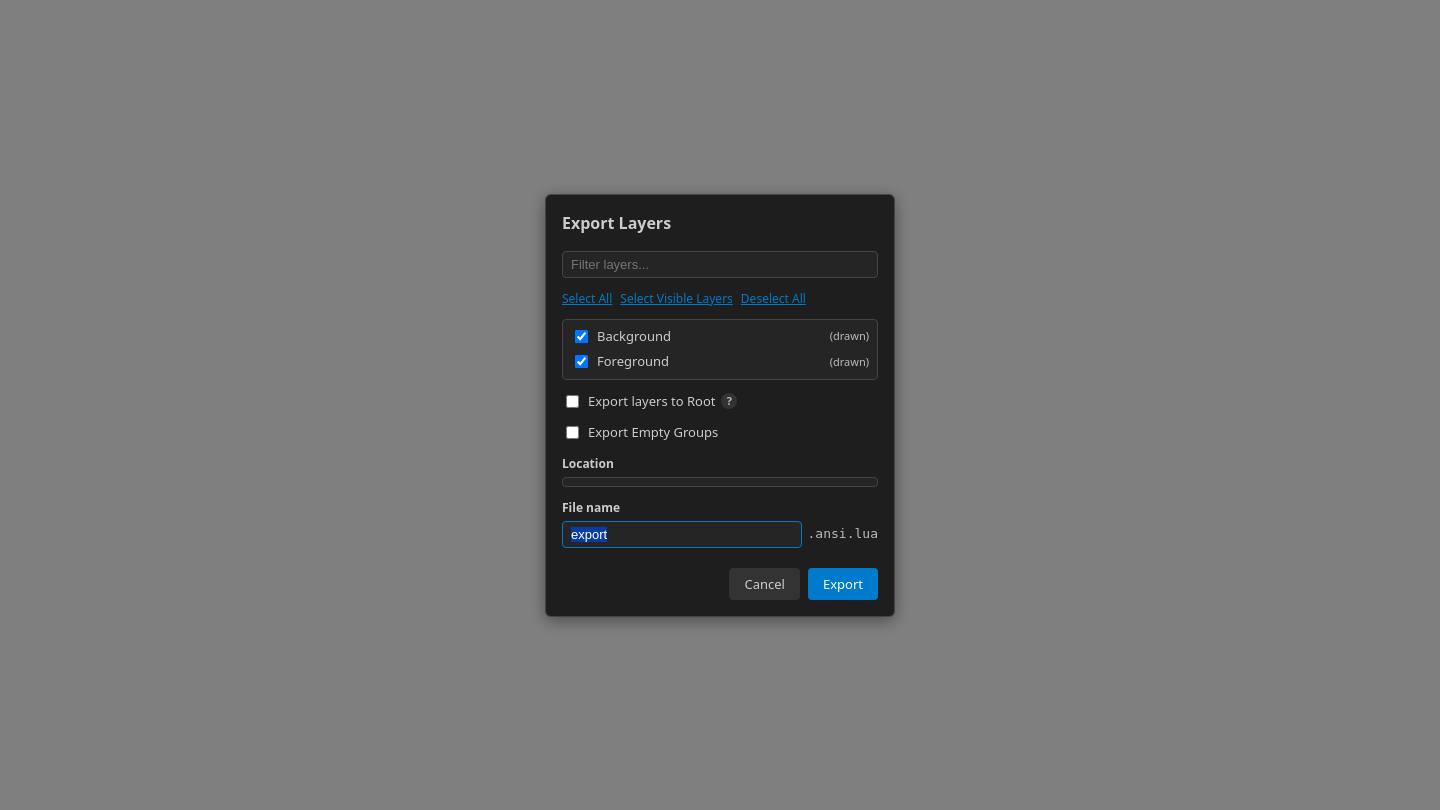
Scenario: ExportLayersDialog › Select All and Deselect All work
Click the button "Deselect All". click: (773, 298)
box: [741,290,806,306]
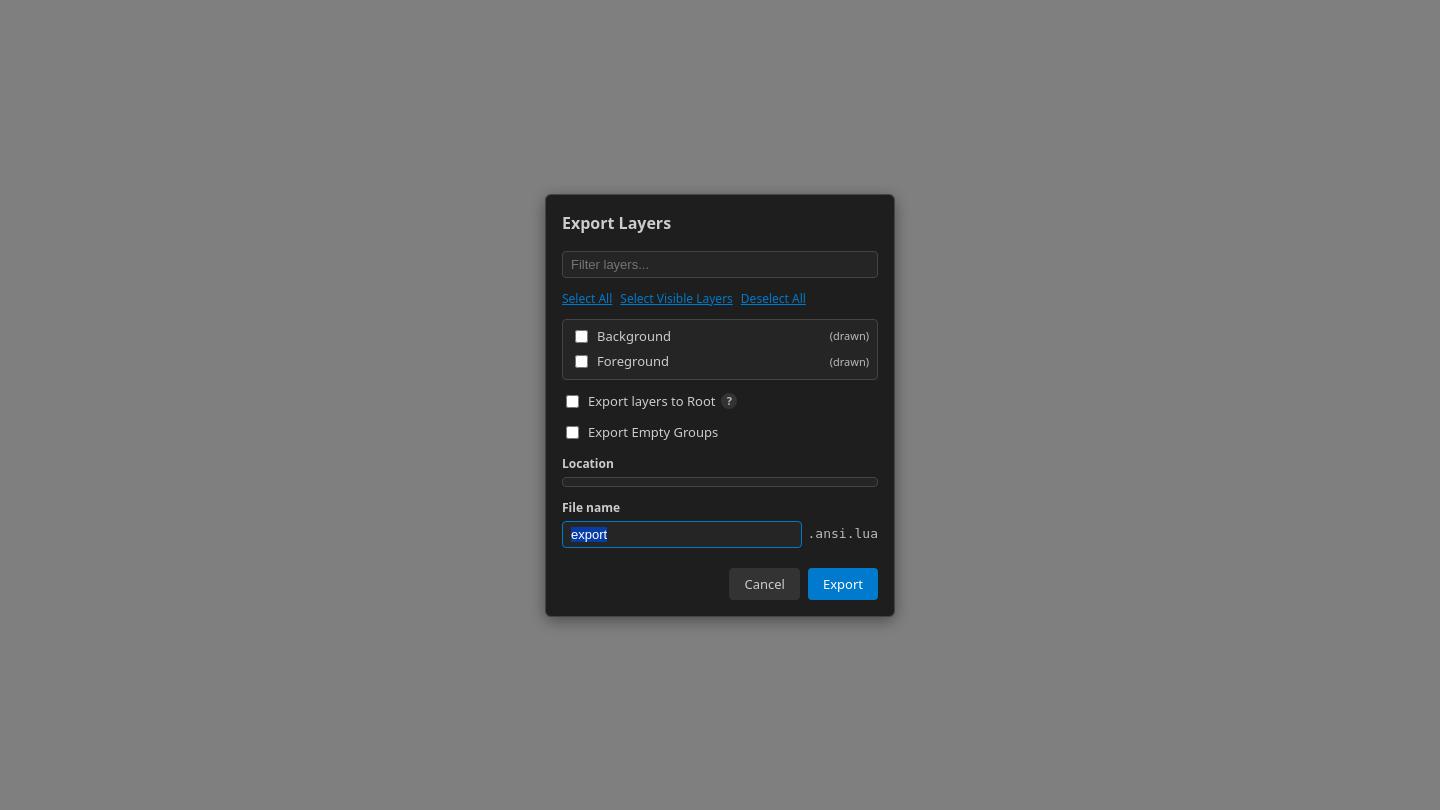
Now the checkbox with test id "export-check-bg-1" is not checked, box [575,330,588,343]
Now the checkbox with test id "export-check-fg-1" is not checked, box [575,355,588,368]
Click the button "Select All". click: (587, 298)
box: [562,290,612,306]
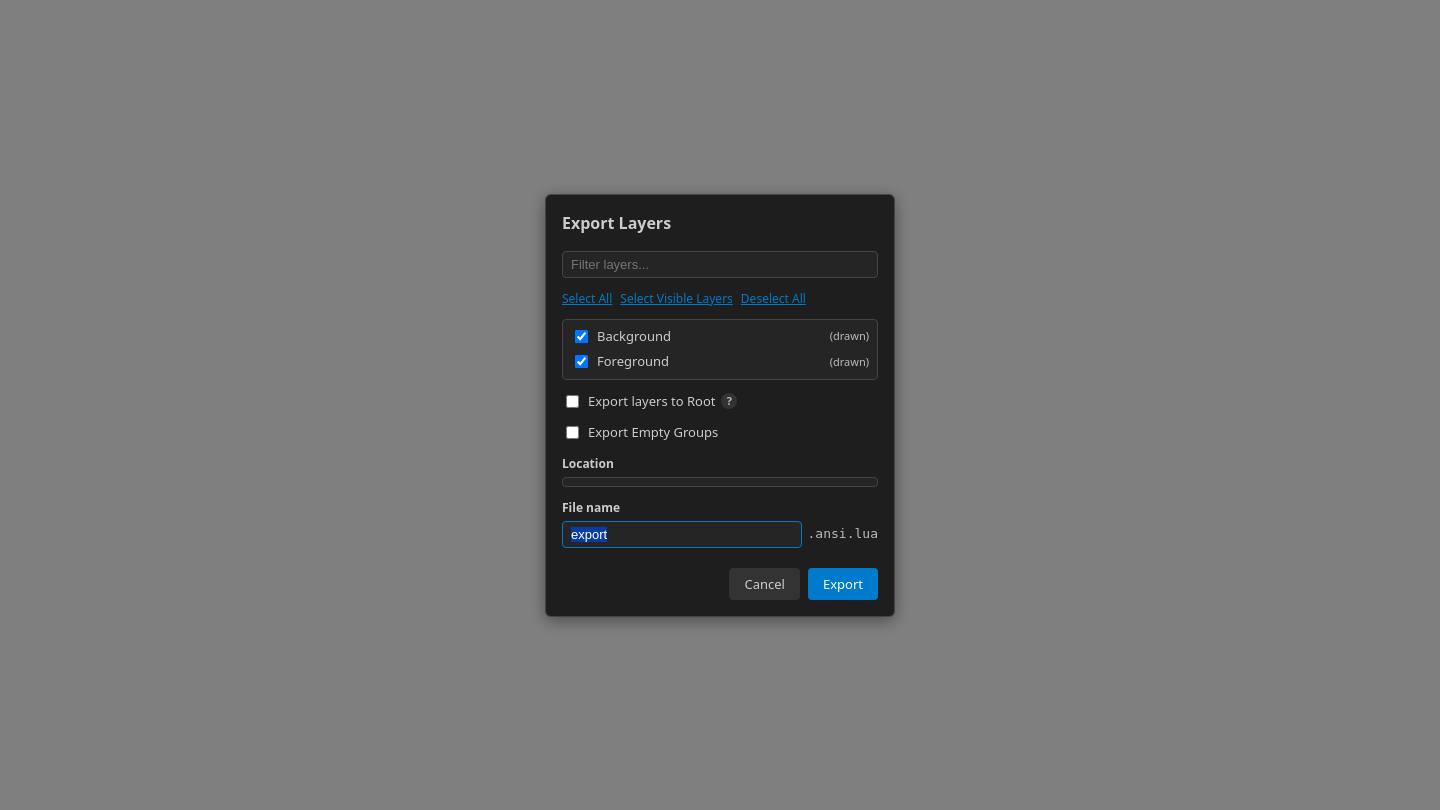
Now the checkbox with test id "export-check-bg-1" is checked, box [575,330,588,343]
Now the checkbox with test id "export-check-fg-1" is checked, box [575,355,588,368]
